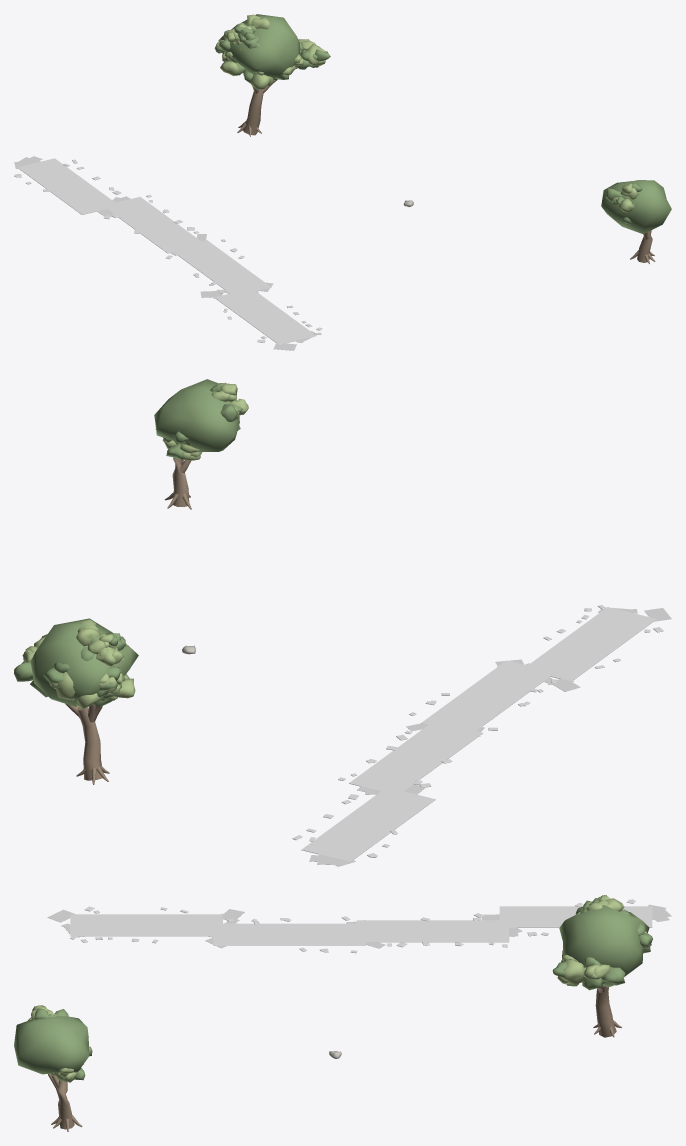
3 renders of one model, top to bottom at view 1: azimuth 30°, elevation 25°; view 2: azimuth 150°, elevation 25°; view 3: azimuth 270°, elevation 25°, orthographic. The views are drawn at different scales.
Visible parts, largest first — view 1: p0_m1; view 2: p0_m1; view 3: p0_m1.
Boxes of the visible parts, box(x1,y1,x2,y2) form: p0_m1: box(14, 14, 671, 350); p0_m1: box(14, 379, 671, 866); p0_m1: box(14, 895, 671, 1131).
Bounding box in the file's own units: 34.96 × 9.48 × 41.38.
